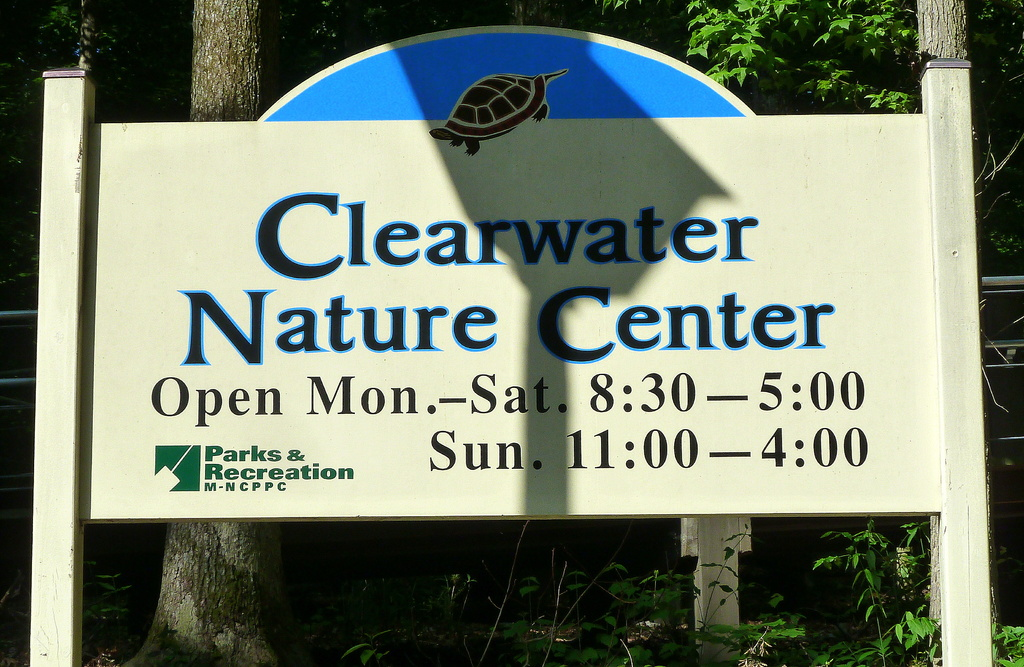Sea turtles: (426, 64, 573, 154)
